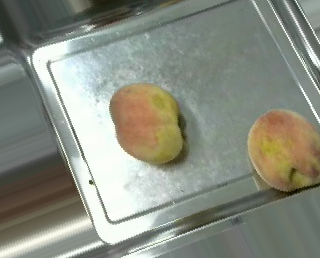Peach: (111, 81, 185, 165), (246, 108, 318, 191)
